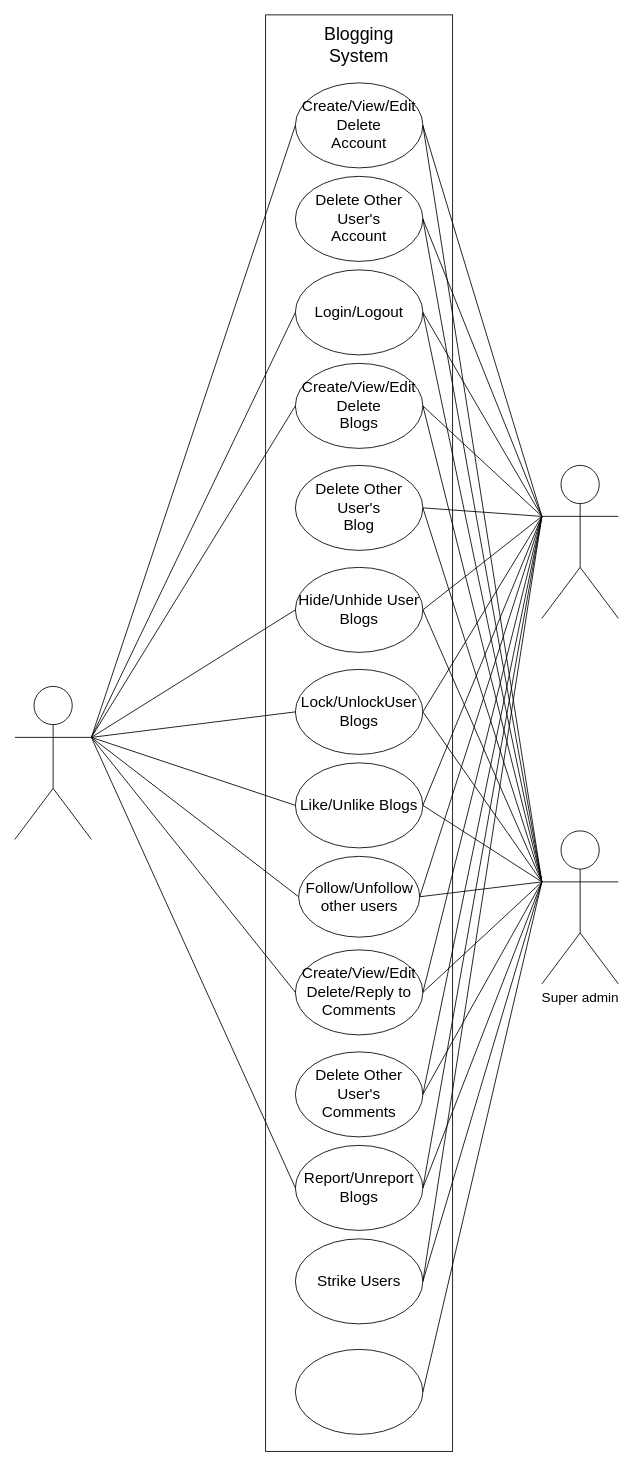
Image size: 633x1466. Some labels were removed from this diagram. Each missing label, with the box of its shape:
Bloggers: (14, 686, 91, 839)
Modderator: (541, 465, 618, 618)
Promote/Demote Users: (295, 1349, 423, 1434)
